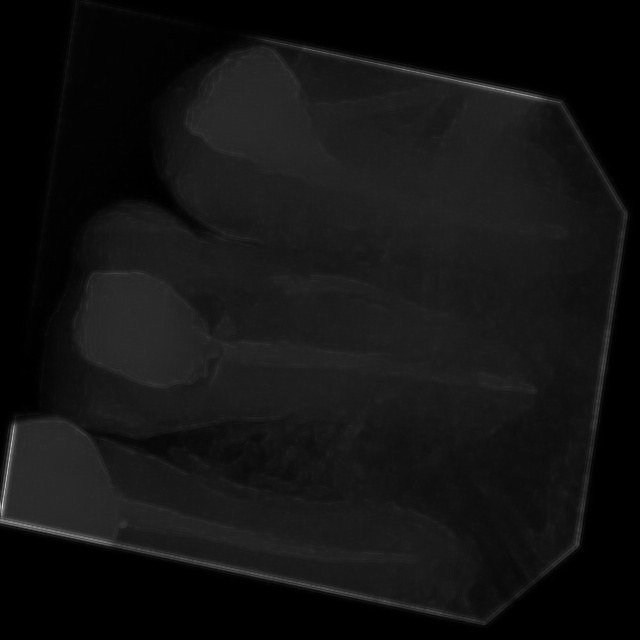Class 1- complete endodontic treatment: (21, 186, 592, 547)
